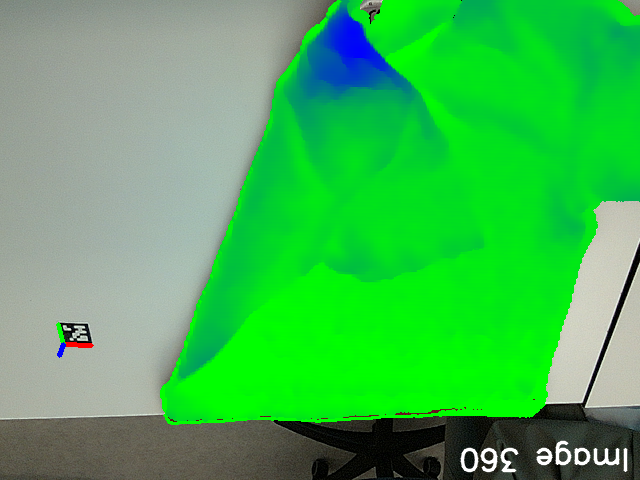V: (459, 214, 505, 258)
